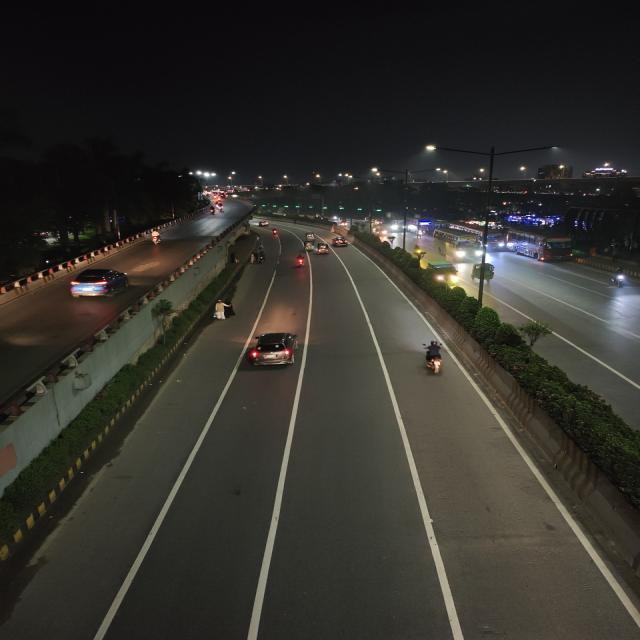bus: (510, 231, 572, 263), (437, 229, 482, 261), (477, 228, 505, 252)
car: (67, 267, 132, 301), (245, 330, 300, 369), (331, 235, 348, 247), (254, 218, 268, 228)
cng: (471, 260, 500, 284), (314, 242, 330, 255), (301, 240, 316, 252), (304, 231, 318, 241)
motorcycle: (414, 340, 452, 378), (608, 267, 630, 290), (148, 227, 164, 245), (293, 251, 308, 268), (211, 205, 222, 215), (270, 228, 280, 238), (213, 202, 224, 211), (269, 226, 277, 235)
pedestrian: (210, 298, 235, 322), (229, 251, 241, 266)
truck: (429, 258, 458, 286)
